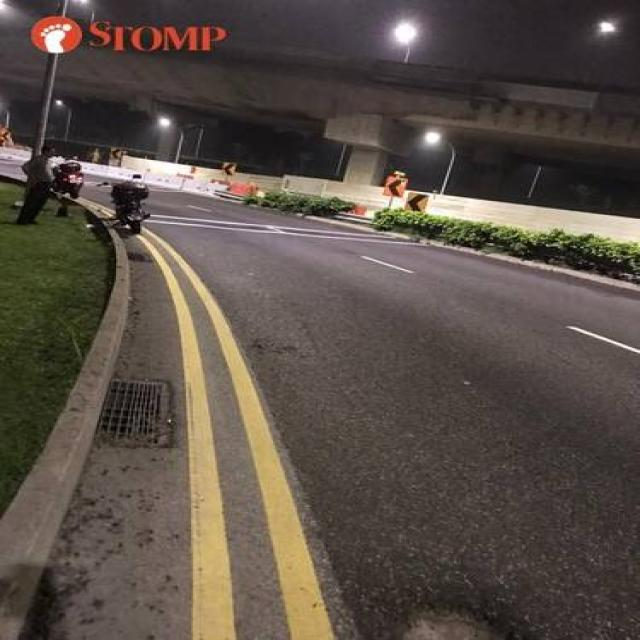Manhole: (98, 379, 172, 447)
Pothole: (402, 618, 503, 639)
